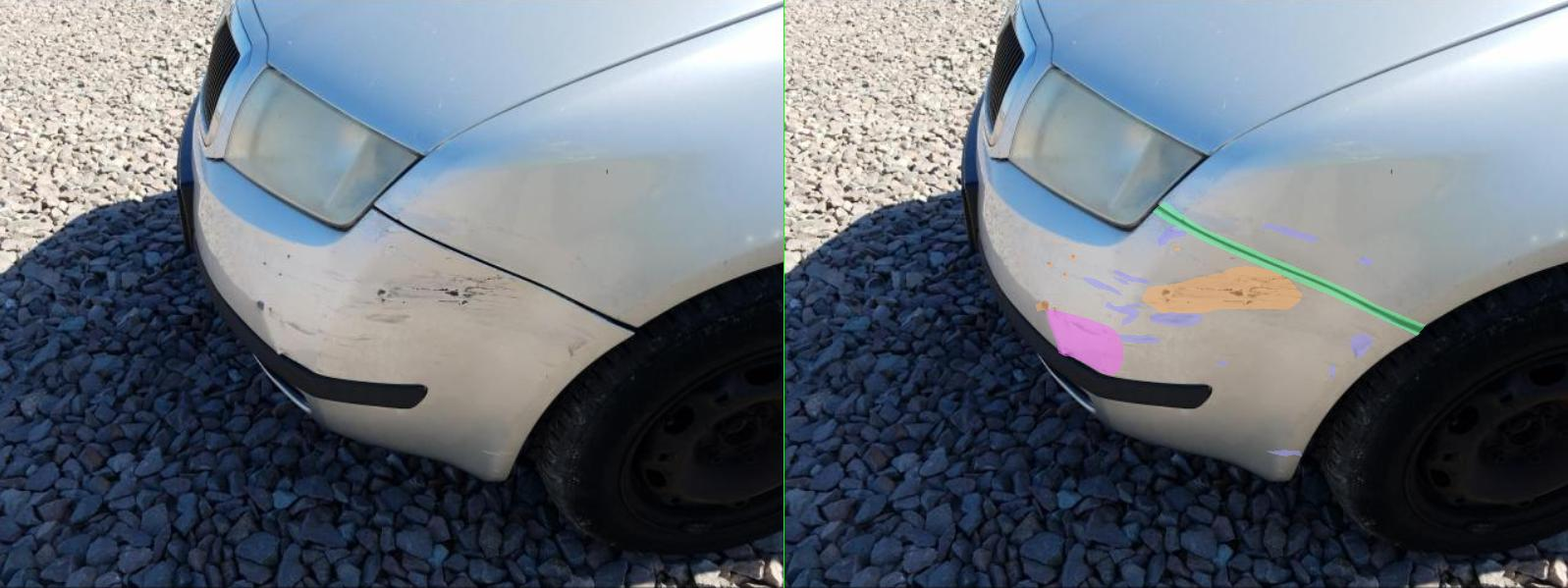Broken part: (737, 201, 1281, 335)
Dent: (525, 309, 676, 375)
Paint chip: (715, 266, 1036, 313), (509, 300, 531, 310), (503, 301, 527, 310), (572, 253, 584, 260), (778, 245, 790, 249), (536, 307, 544, 312), (556, 273, 564, 278), (527, 262, 534, 266)
Scratch: (574, 322, 751, 343), (953, 223, 1067, 241), (643, 301, 717, 325), (731, 312, 835, 326), (597, 277, 674, 294), (1132, 334, 1175, 357), (747, 228, 802, 245), (658, 270, 729, 283), (969, 450, 1034, 455), (1149, 256, 1177, 265), (658, 277, 690, 284), (1091, 362, 1100, 380), (863, 360, 884, 365)
